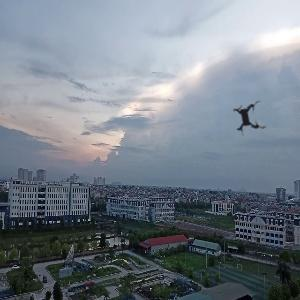drone: (217, 86, 282, 151)
